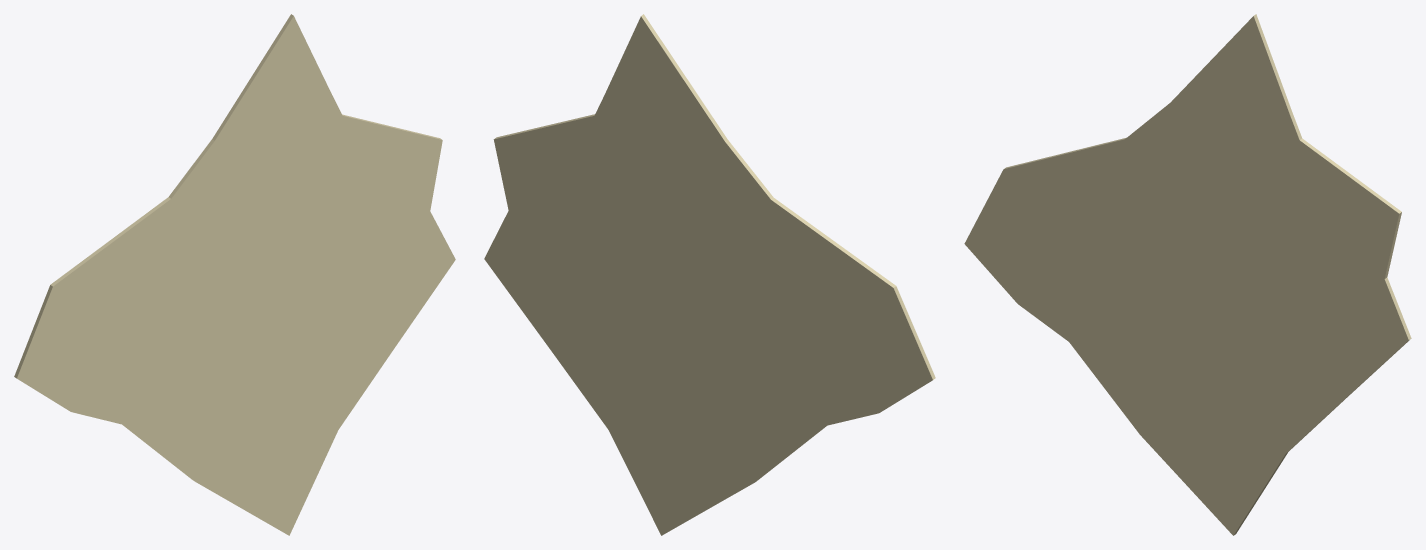
File: sticker_03.glb
3 renders of one model, left to right at view 1: azimuth 30°, elevation 25°; view 2: azimuth 150°, elevation 25°; view 3: azimuth 330°, elevation 25°, orthographic. The views are drawn at different scales.
Parts seen in each view (by area): view 1: sticker03; view 2: sticker03; view 3: sticker03.
Part boxes in pixels (<box>): sticker03: <box>14,14,455,535</box>; sticker03: <box>484,14,935,535</box>; sticker03: <box>964,14,1411,535</box>.
Size of the model in its own units: 0.2436 by 0.2711 by 0.0101.
